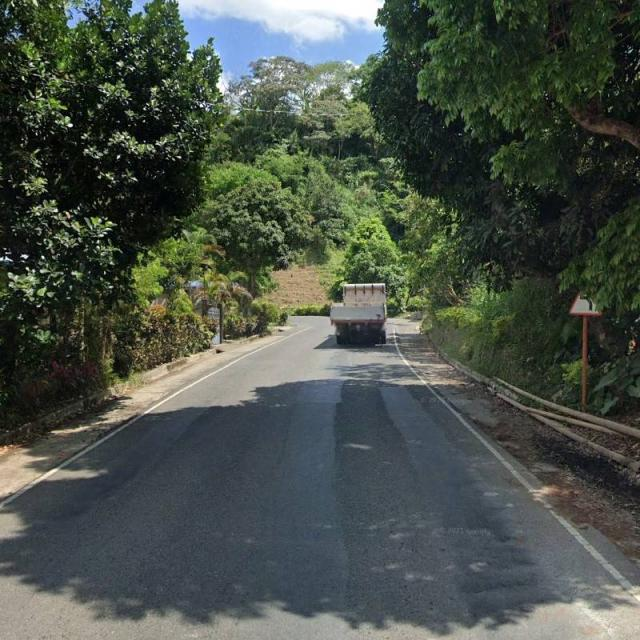warn_left_curve: (568, 280, 603, 316)
